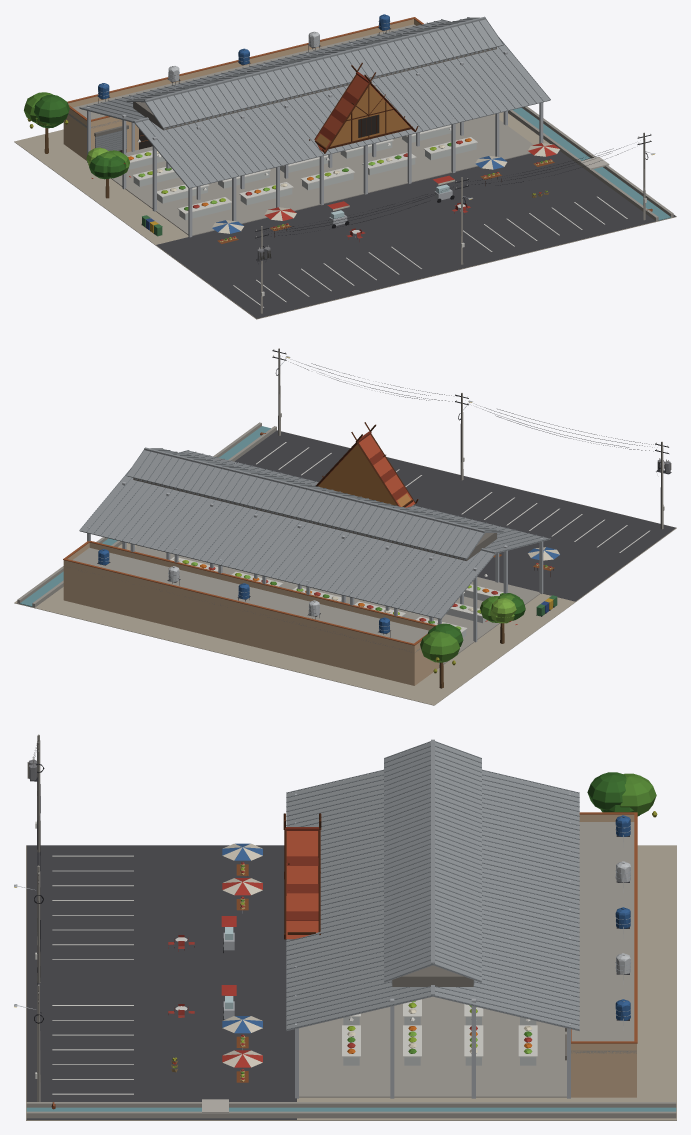
Rendered from market.glb.
The picture shows the model from 3 angles, top to bottom: view 1: azimuth 30°, elevation 25°; view 2: azimuth 150°, elevation 25°; view 3: azimuth 270°, elevation 25°; orthographic projection. The views are drawn at different scales.
Parts seen in each view (by area): view 1: body, windows; view 2: body; view 3: body.
Boxes of the visible parts, bbox=[...] form: body: bbox=[14, 14, 676, 319]; windows: bbox=[95, 114, 654, 199]; body: bbox=[14, 348, 676, 705]; body: bbox=[14, 734, 676, 1120].
Size of the model in its own units: 48.54 by 13.56 by 48.78.
